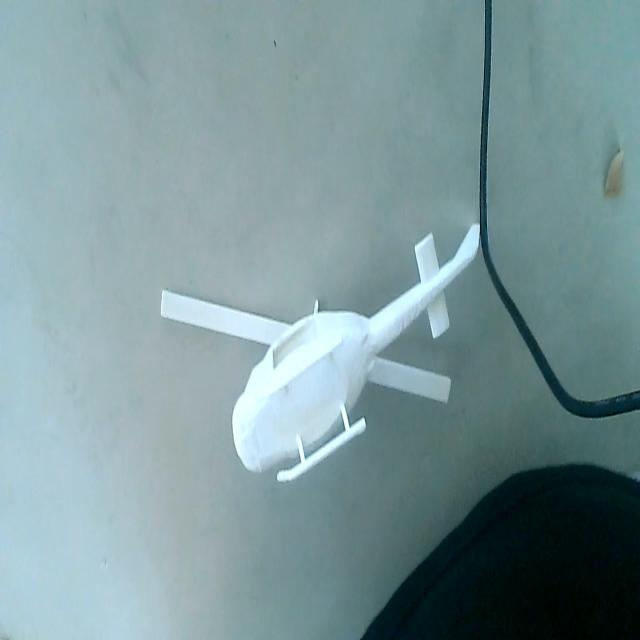Helicopter: (159, 224, 481, 492)
